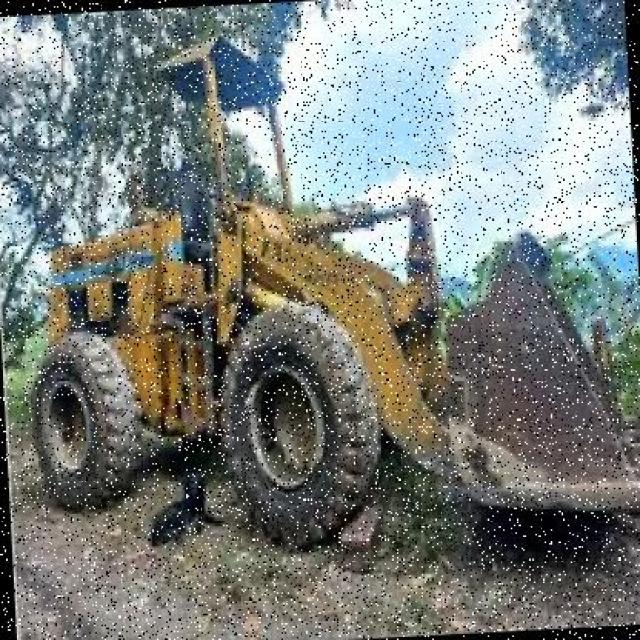buldozerpayloadergrader: (6, 11, 640, 577)
